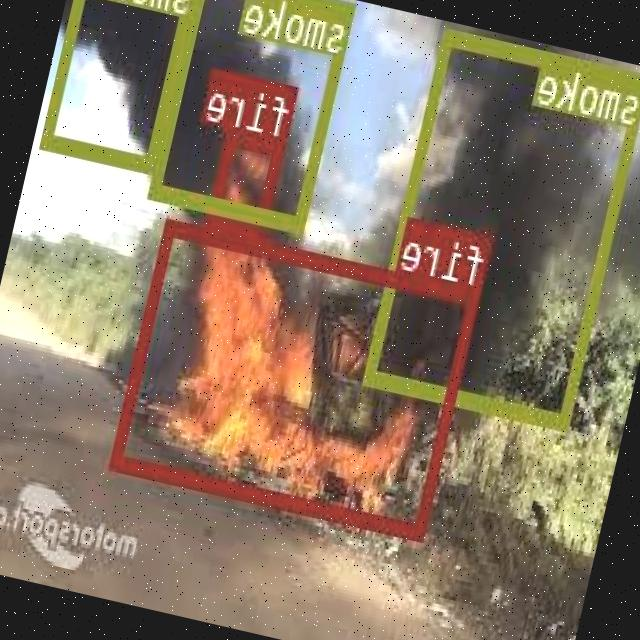fire: (112, 216, 484, 539), (208, 126, 288, 240)
smoke: (366, 25, 640, 427), (151, 0, 358, 229), (43, 0, 204, 169)
